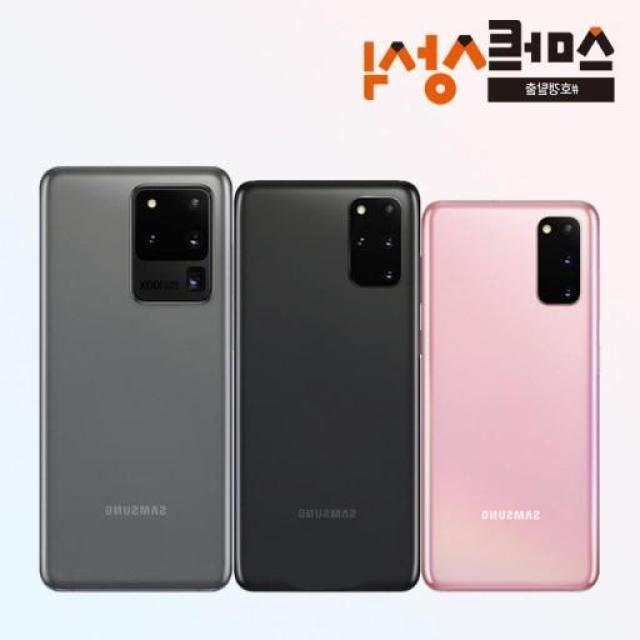mobile: (38, 167, 234, 594), (234, 177, 420, 595), (421, 202, 601, 592)
